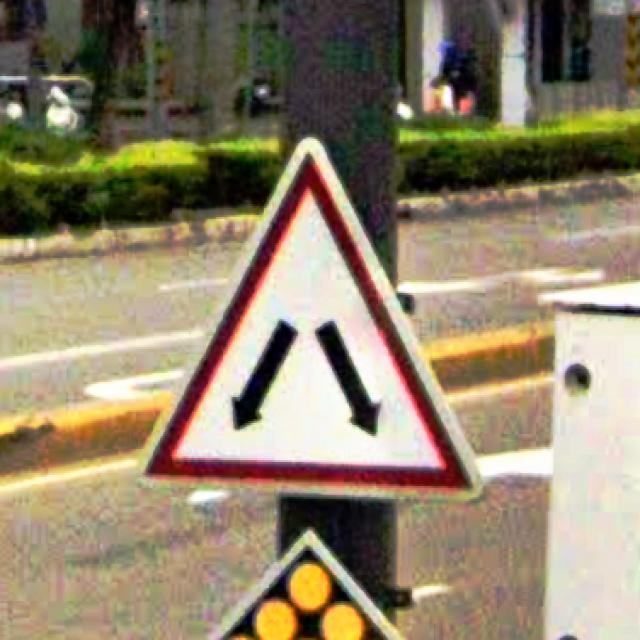diverge: (141, 132, 485, 504)
